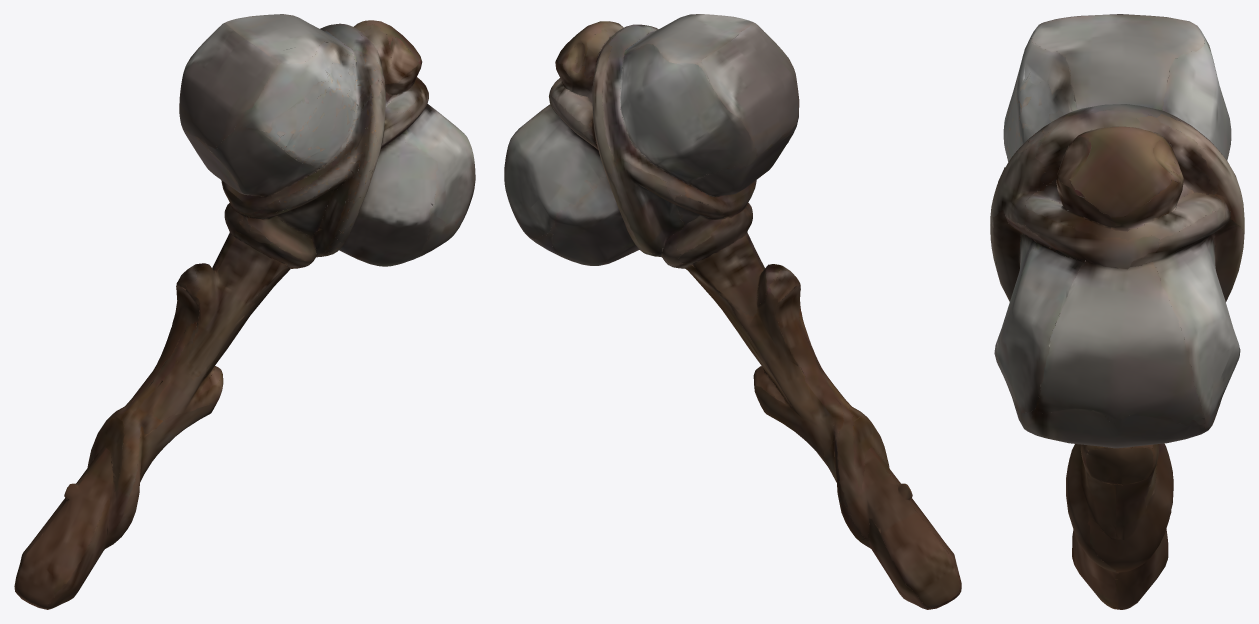
File: maca_pedra.glb
The picture shows the model from 3 angles, left to right: view 1: azimuth 30°, elevation 25°; view 2: azimuth 150°, elevation 25°; view 3: azimuth 270°, elevation 25°; orthographic projection. The views are drawn at different scales.
Parts seen in each view (by area): view 1: maca_pedra; view 2: maca_pedra; view 3: maca_pedra.
Part boxes in pixels (x1,y1,x2,y2): maca_pedra: [14, 14, 475, 609]; maca_pedra: [504, 14, 961, 609]; maca_pedra: [990, 14, 1244, 609].
Size of the model in its own units: 0.2123 by 0.2404 by 0.0767.
Materials: 1 (1 with a texture image).
